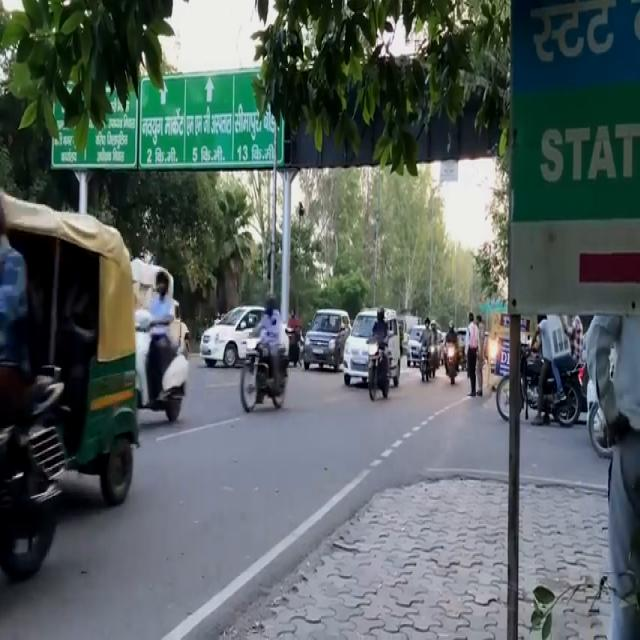MOTORCYCLE: (241, 334, 292, 412), (370, 340, 390, 400), (445, 343, 458, 387), (419, 346, 434, 384)
